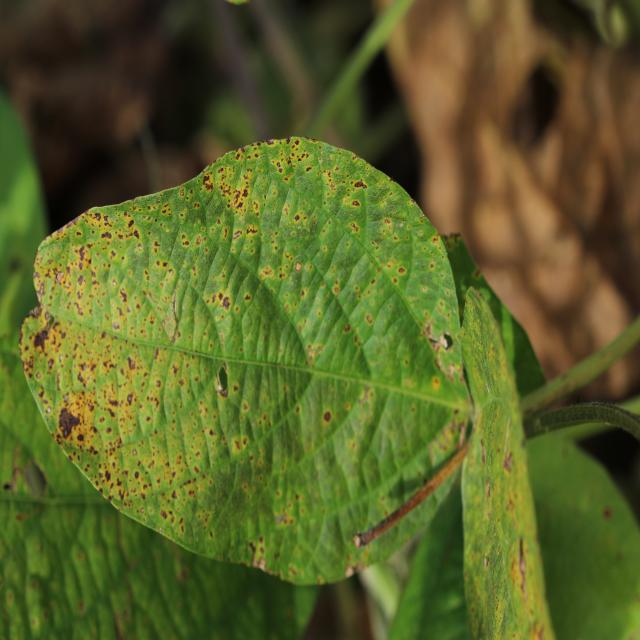Bacterial_Blight: (266, 139, 312, 177), (58, 393, 84, 444), (435, 352, 463, 386), (160, 295, 178, 340), (517, 537, 528, 602), (427, 330, 451, 351), (214, 364, 229, 397), (232, 184, 251, 209), (33, 326, 50, 351), (443, 233, 461, 252), (274, 509, 294, 526), (217, 177, 233, 198), (76, 246, 89, 271), (7, 256, 23, 273), (502, 451, 514, 473), (532, 621, 545, 640), (480, 438, 488, 467), (202, 173, 214, 191), (352, 533, 365, 549), (484, 479, 492, 504), (505, 497, 515, 513), (345, 565, 357, 578), (256, 557, 266, 572), (353, 179, 367, 189), (246, 225, 258, 236), (55, 271, 65, 284), (248, 540, 256, 556), (128, 356, 137, 370), (119, 289, 127, 304), (602, 507, 612, 519), (38, 281, 45, 298), (221, 296, 230, 309), (108, 397, 118, 408), (232, 229, 242, 240), (70, 216, 80, 227), (307, 345, 315, 358), (101, 231, 112, 240), (126, 393, 134, 405), (432, 377, 440, 389), (104, 469, 111, 482), (3, 482, 12, 492), (323, 411, 331, 422), (294, 261, 302, 272), (350, 222, 359, 231), (112, 320, 120, 330), (365, 314, 373, 324), (127, 218, 134, 229), (44, 311, 51, 322), (483, 555, 488, 570), (351, 199, 360, 207), (266, 138, 275, 146), (133, 229, 140, 239), (160, 510, 167, 520), (398, 267, 406, 275), (244, 293, 251, 302), (196, 235, 202, 245), (276, 161, 282, 171), (293, 140, 300, 148), (46, 405, 52, 414), (294, 214, 300, 222), (132, 448, 138, 456), (134, 470, 139, 479), (112, 278, 117, 287), (286, 136, 291, 144), (137, 243, 142, 251), (180, 189, 185, 196), (158, 526, 162, 534)
Soybean: (20, 138, 473, 585)
